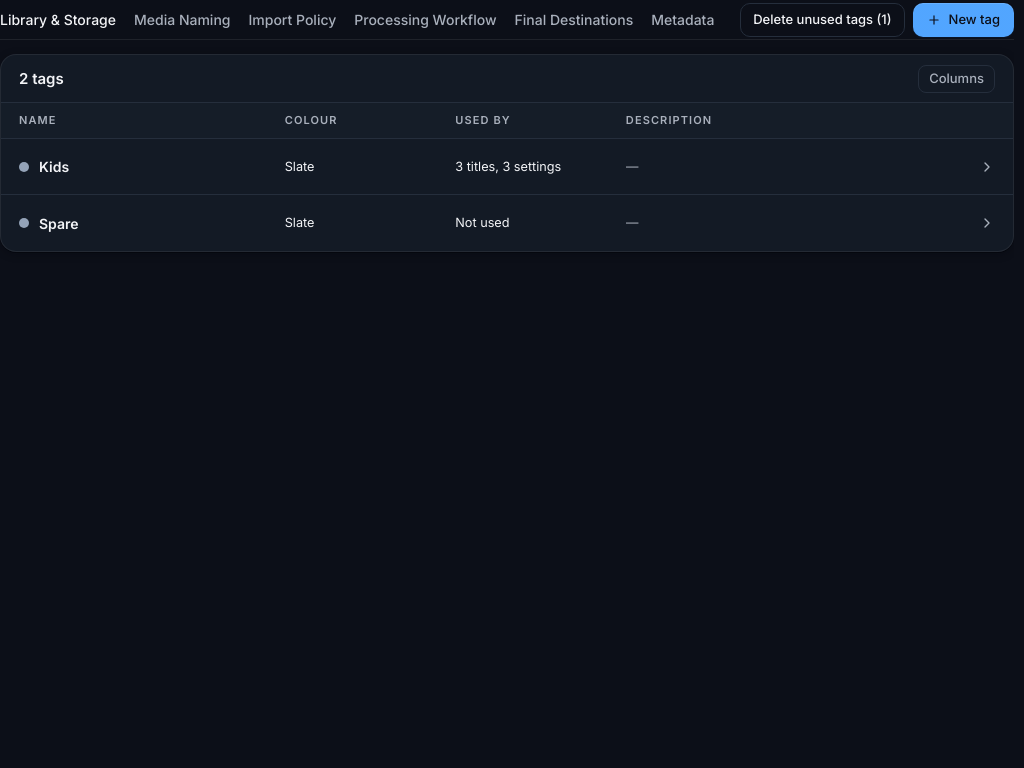
Scenario: Tags page (#1039) › lists every connection and rule using a tag, each linking to where it is set
Click the text "Kids" at (54, 166), box [39,156,69,177]
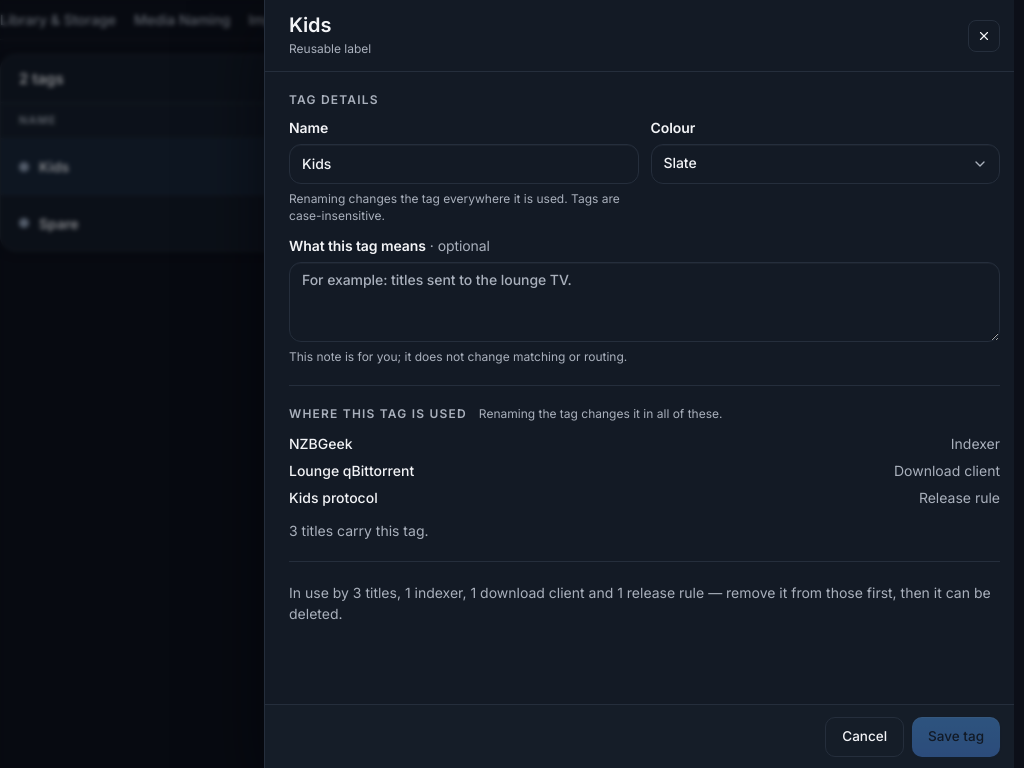
Expected: the text "Release rule" is shown, [919,487,1000,508]
